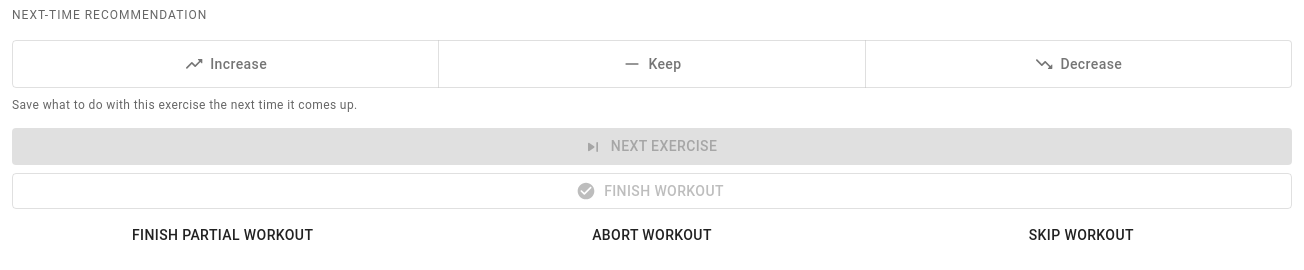
Test case: ExerciseCompletionActions › requires a recommendation before allowing exercise completion when sets are logged
Expected: the button "Next exercise" is disabled, x1=12 y1=128 x2=1292 y2=165
Expected: the button "Finish workout" is disabled, x1=12 y1=173 x2=1292 y2=209
Click the button "Keep" at [652, 64], box x1=438 y1=40 x2=866 y2=88
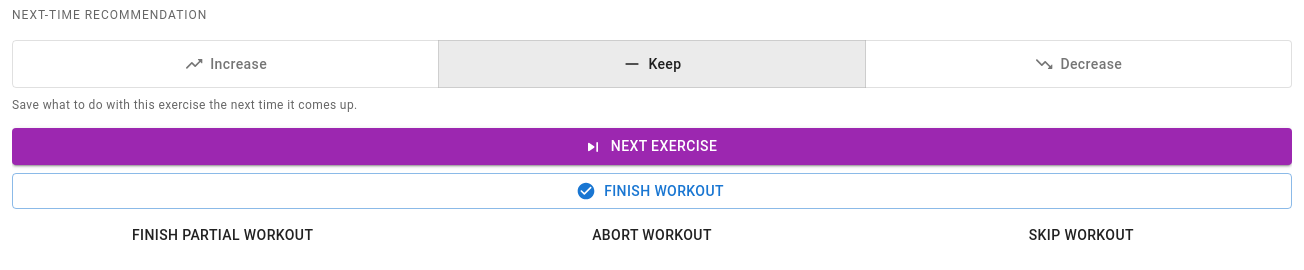
Expected: the number of forms is 5, x1=12 y1=128 x2=1292 y2=165; x1=12 y1=173 x2=1292 y2=209; x1=12 y1=217 x2=433 y2=254; x1=441 y1=217 x2=863 y2=254; x1=871 y1=217 x2=1292 y2=254
Expected: the button "Next exercise" is enabled, x1=12 y1=128 x2=1292 y2=165
Expected: the button "Finish workout" is enabled, x1=12 y1=173 x2=1292 y2=209
